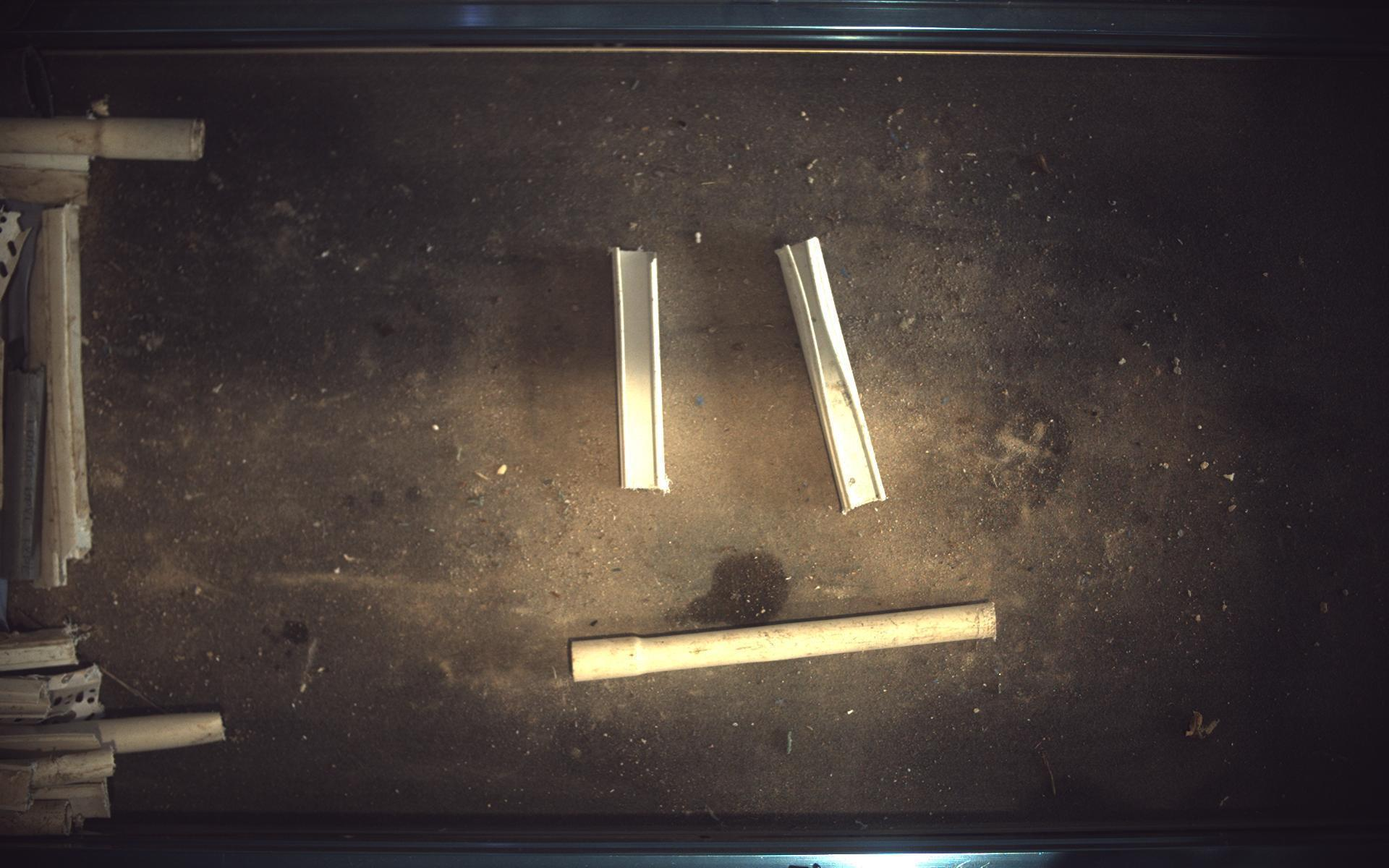pipes: (571, 602, 999, 683)
plastic: (777, 237, 888, 514), (612, 247, 671, 493)
